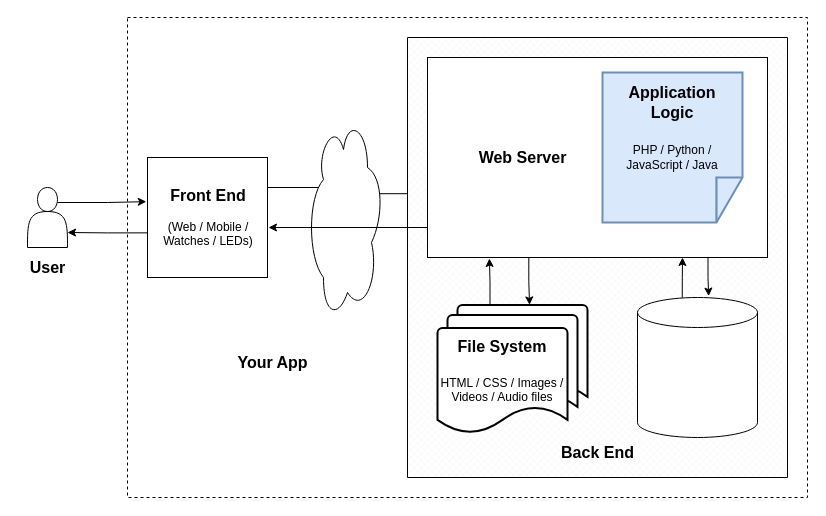
Image size: 826x516. Some labels were removed from this diagram. Each missing label, with the box of its shape:
Database MySQL / Oracle / MongoDB / CouchBase: (636, 296, 758, 438)
Internet LAN: (306, 116, 388, 318)
